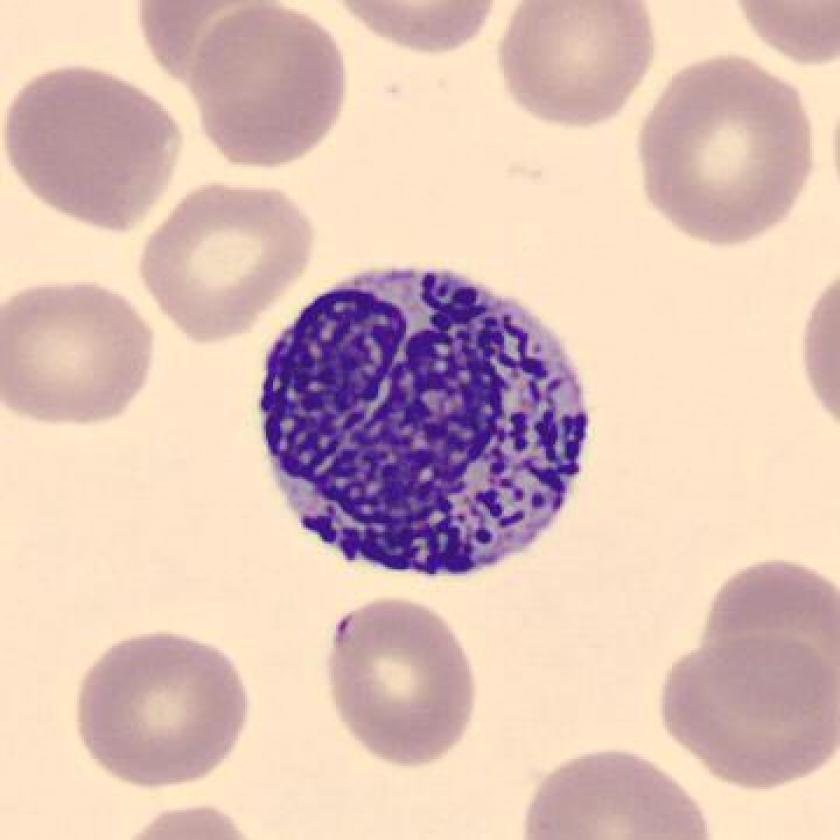basophil: (251, 256, 591, 584)
